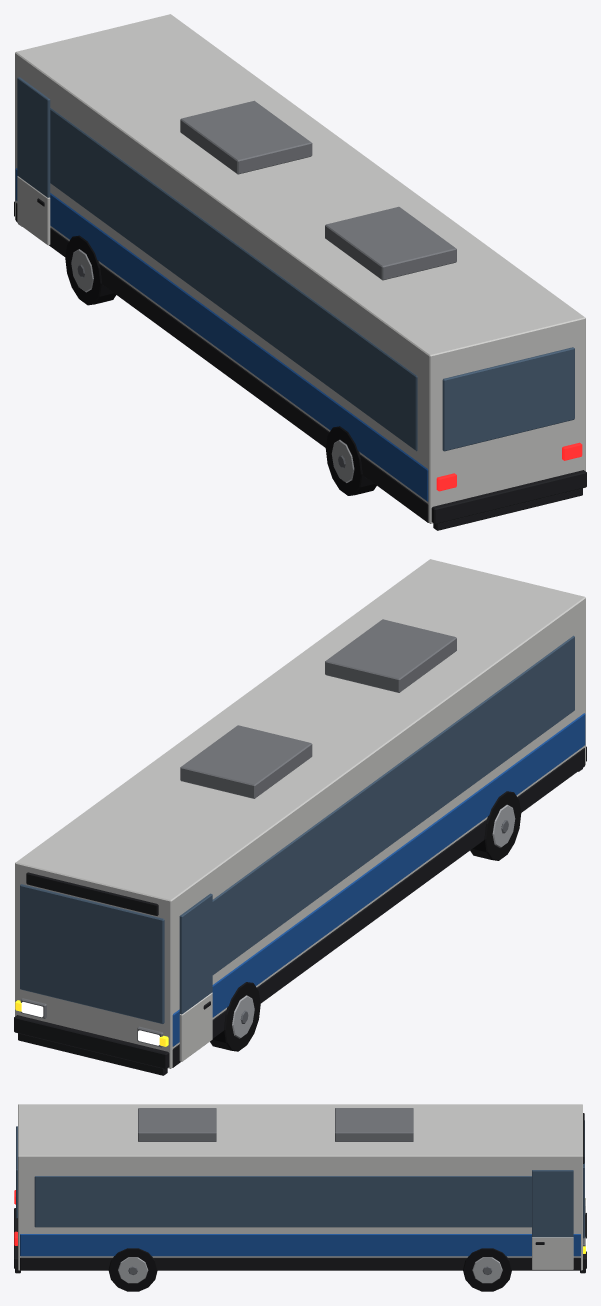
The model's file is car_bus.glb.
3 renders of one model, top to bottom at view 1: azimuth 30°, elevation 25°; view 2: azimuth 150°, elevation 25°; view 3: azimuth 270°, elevation 25°, orthographic. The views are drawn at different scales.
Parts seen in each view (by area): view 1: car_body, car_door_FL; view 2: car_body, car_door_FL; view 3: car_body, car_door_FR.
Boxes of the visible parts, left/top/right/bottom form: car_body: left=14, top=14, right=586, bottom=530; car_door_FL: left=17, top=77, right=50, bottom=245; car_body: left=14, top=559, right=586, bottom=1075; car_door_FL: left=179, top=893, right=212, bottom=1061; car_body: left=14, top=1104, right=586, bottom=1291; car_door_FR: left=532, top=1170, right=573, bottom=1269.
Size of the model in its own units: 2.68 by 3.26 by 11.64.
